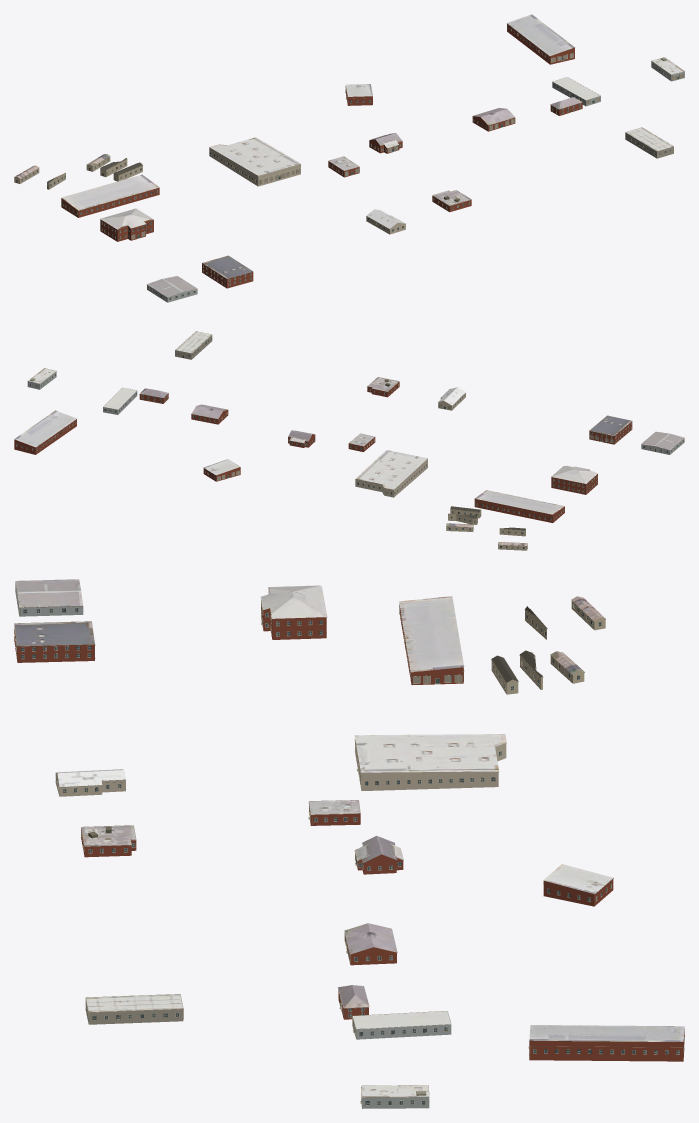
3 views of the same model, one above another, from view 1: azimuth 30°, elevation 25°; view 2: azimuth 150°, elevation 25°; view 3: azimuth 270°, elevation 25° (orthographic). The views are drawn at different scales.
Visible parts, largest first — view 1: -9_0_270268549_0, -9_0_270474131_7, -9_0_-3330_24, -9_0_270268616_4; view 2: -9_0_270268549_0, -9_0_-3330_24, -9_0_270474131_7, -9_0_270268616_4; view 3: -9_0_270268549_0, -9_0_270474131_7, -9_0_270268616_4, -9_0_-3330_24, -9_0_-6972520291_33.
Boxes of the visible parts, x1,y1,x2,y2 form: -9_0_270268549_0: [14, 14, 684, 300]; -9_0_270474131_7: [209, 147, 405, 234]; -9_0_-3330_24: [14, 157, 142, 189]; -9_0_270268616_4: [147, 61, 684, 302]; -9_0_270268549_0: [14, 331, 684, 549]; -9_0_-3330_24: [446, 506, 527, 550]; -9_0_270474131_7: [355, 393, 465, 497]; -9_0_270268616_4: [27, 371, 684, 454]; -9_0_270268549_0: [14, 579, 684, 1106]; -9_0_270474131_7: [55, 741, 506, 796]; -9_0_270268616_4: [15, 583, 451, 1108]; -9_0_-3330_24: [491, 601, 605, 694]; -9_0_-6972520291_33: [85, 999, 183, 1024].
Size of the model in its own units: 487 by 16.22 by 265.
Materials: 16 (1 with a texture image).
